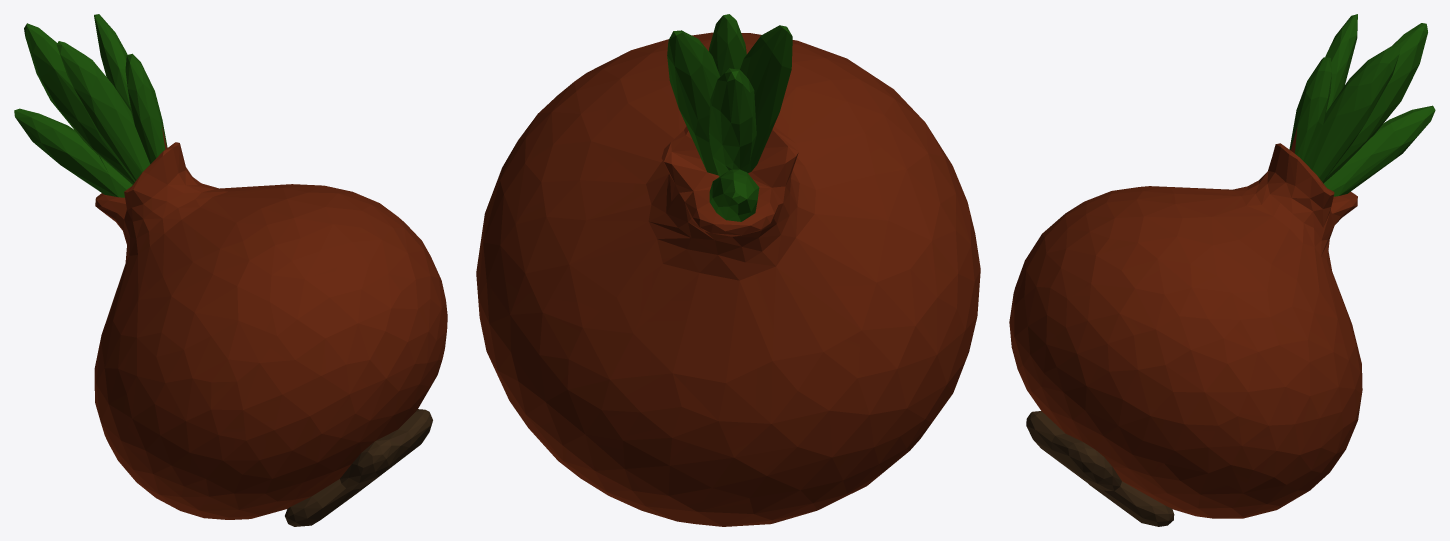
File: Onion_lowpoly.obj
3 renders of one model, left to right at view 1: azimuth 30°, elevation 25°; view 2: azimuth 150°, elevation 25°; view 3: azimuth 270°, elevation 25°, orthographic. The views are drawn at different scales.
Visible parts, largest first — view 1: Mesh1.018; view 2: Mesh1.018; view 3: Mesh1.018.
Part boxes in pixels (bbox=[...]): Mesh1.018: bbox=[14, 14, 447, 526]; Mesh1.018: bbox=[476, 14, 980, 526]; Mesh1.018: bbox=[1009, 14, 1435, 526].
Size of the model in its own units: 0.6774 by 0.8869 by 0.7902.
